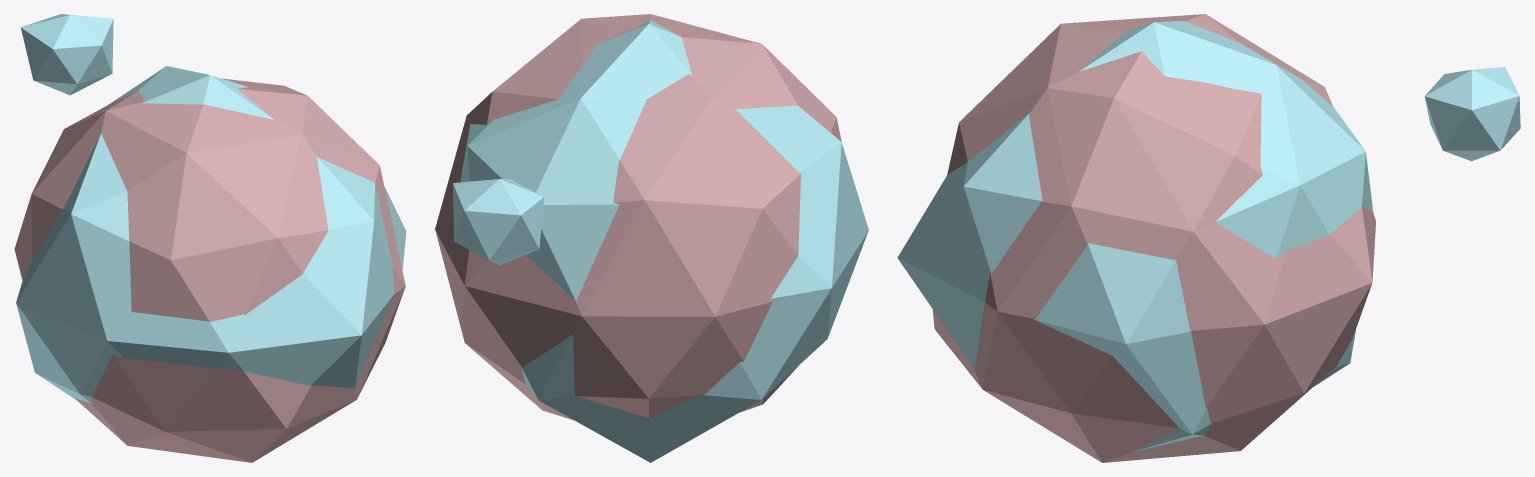
The model's file is SM_planet3.fbx.
3 renders of one model, left to right at view 1: azimuth 30°, elevation 25°; view 2: azimuth 150°, elevation 25°; view 3: azimuth 270°, elevation 25°, orthographic. The views are drawn at different scales.
Parts seen in each view (by area): view 1: SM_planet3; view 2: SM_planet3; view 3: SM_planet3.
Part boxes in pixels (x1,y1,x2,y2): SM_planet3: (14, 14, 406, 462); SM_planet3: (435, 14, 868, 462); SM_planet3: (897, 14, 1520, 462).
Bounding box in the file's own units: 4.85 × 4.82 × 6.27.
